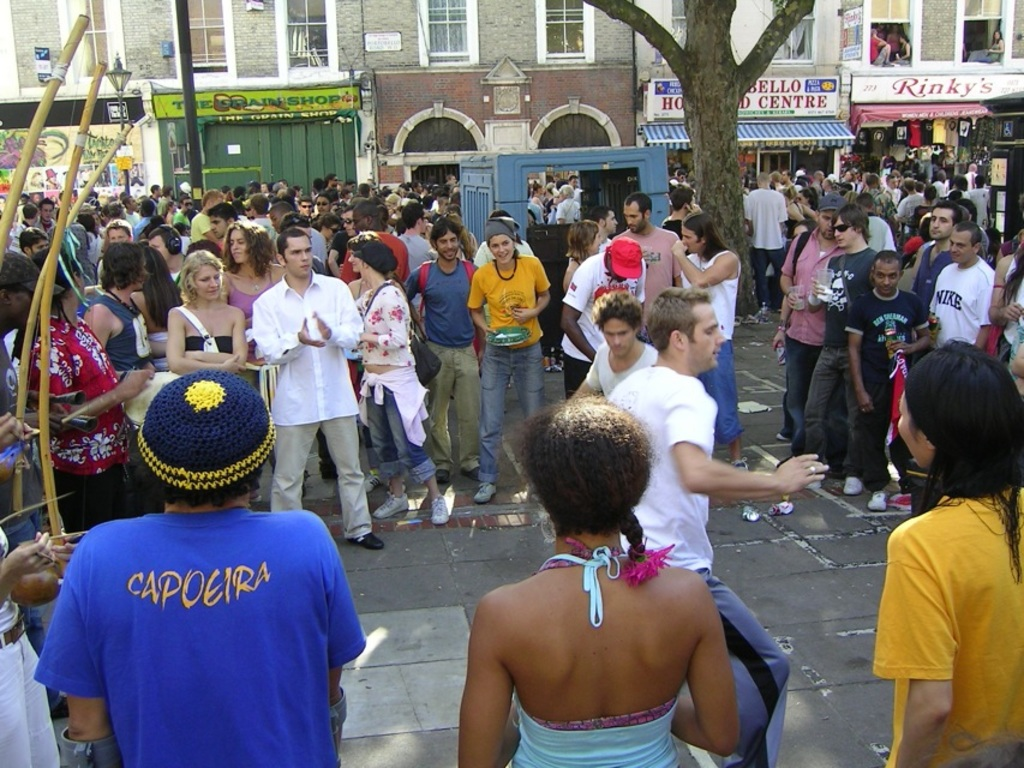person: (2, 246, 156, 536)
